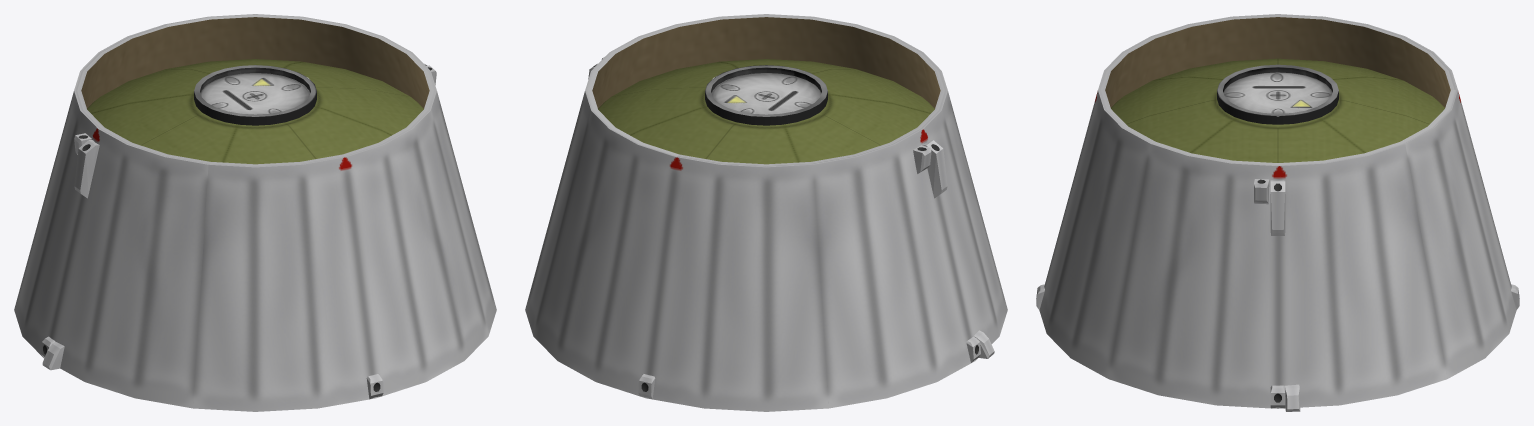
3 renders of one model, left to right at view 1: azimuth 30°, elevation 25°; view 2: azimuth 150°, elevation 25°; view 3: azimuth 270°, elevation 25°, orthographic.
Visible parts, largest first — view 1: Adapter, TankCap, Cylinder008, Box130, Box135; view 2: Adapter, TankCap, Cylinder008, Box130; view 3: Adapter, TankCap, Cylinder008, Box131.
Boxes of the visible parts, <box> form: Adapter: <box>14,14,496,411</box>; TankCap: <box>87,59,423,164</box>; Cylinder008: <box>194,65,316,125</box>; Box130: <box>74,140,99,198</box>; Box135: <box>42,342,64,370</box>; Adapter: <box>525,14,1007,411</box>; TankCap: <box>598,59,934,164</box>; Cylinder008: <box>705,65,827,125</box>; Box130: <box>922,140,947,198</box>; Adapter: <box>1039,14,1516,408</box>; TankCap: <box>1111,58,1444,162</box>; Cylinder008: <box>1217,64,1338,124</box>; Box131: <box>1270,180,1285,235</box>.
Size of what is drawn, in the model's own units: 2.6 by 1.25 by 2.52.
